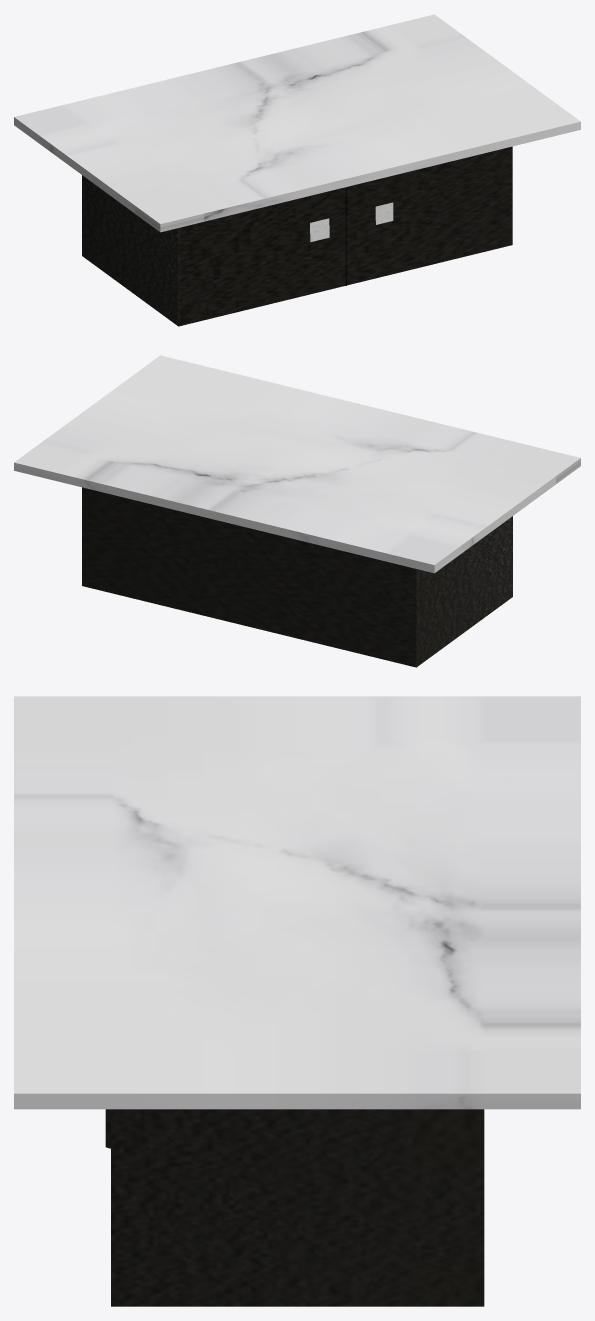
The model's file is Encimera1.fbx.
3 views of the same model, one above another, from view 1: azimuth 30°, elevation 25°; view 2: azimuth 150°, elevation 25°; view 3: azimuth 270°, elevation 25° (orthographic). The views are drawn at different scales.
Parts seen in each view (by area): view 1: Cube; view 2: Cube; view 3: Cube.
Part boxes in pixels (<box>): Cube: <box>14,14,580,326</box>; Cube: <box>14,355,580,667</box>; Cube: <box>14,696,580,1306</box>.
Bounding box in the file's own units: 1006 × 301 × 607.
2 materials, 2 textured.
